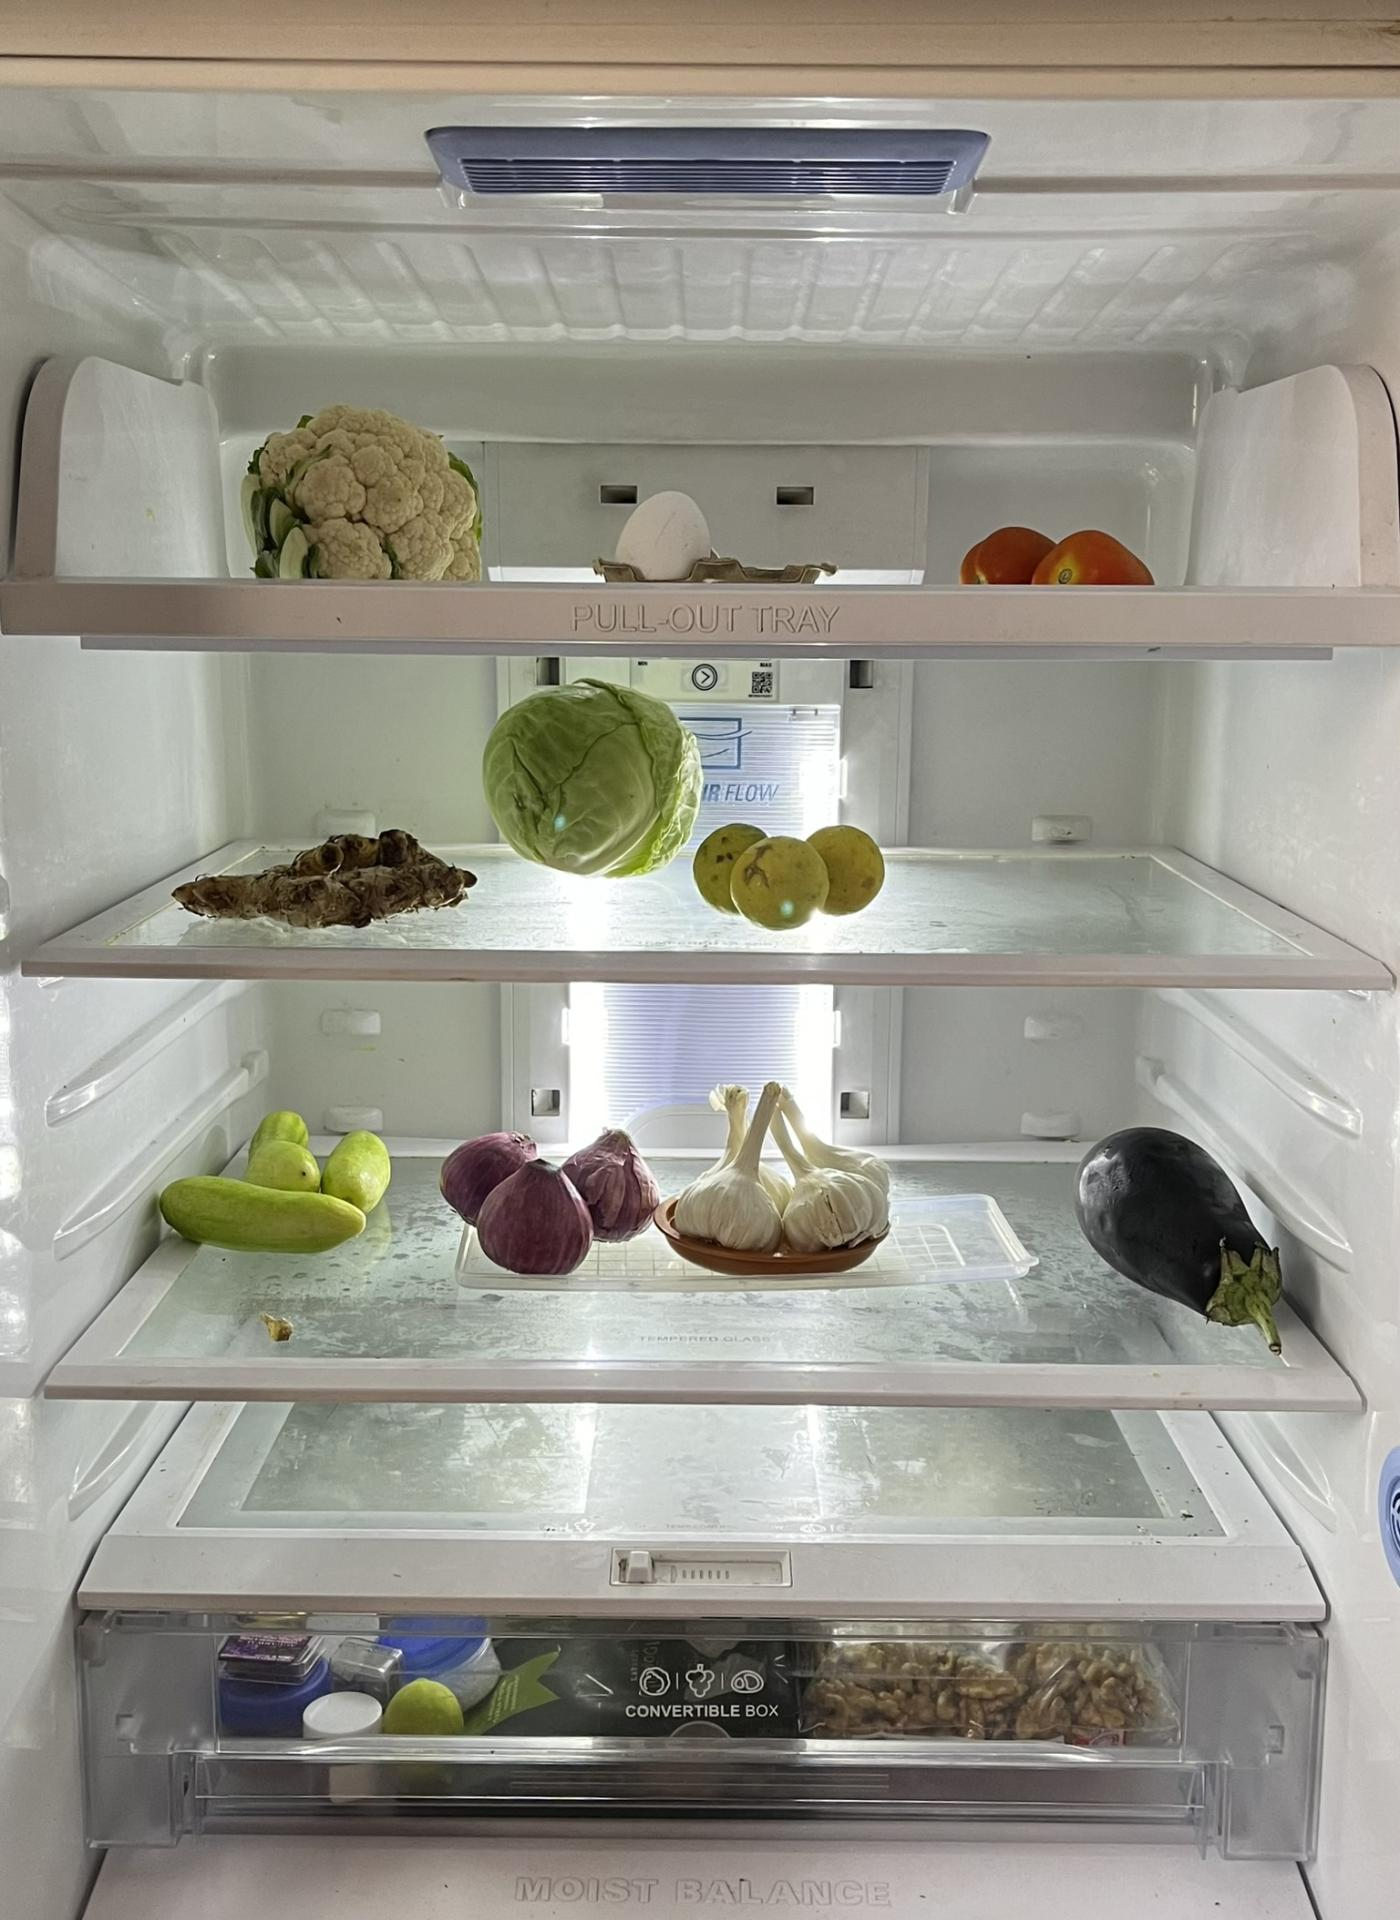cabbage: (483, 681, 698, 875)
cauliflower: (243, 402, 477, 580)
cucumber: (160, 1109, 391, 1258)
egg: (616, 486, 713, 589)
garlic: (671, 1076, 887, 1248)
ginger: (174, 827, 477, 935)
lemon: (698, 821, 883, 927)
onion: (438, 1125, 656, 1273)
tomato: (957, 526, 1166, 587)
